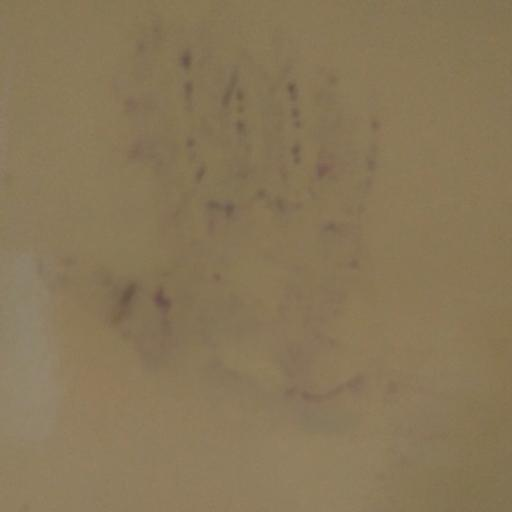stain: (71, 27, 428, 447)
